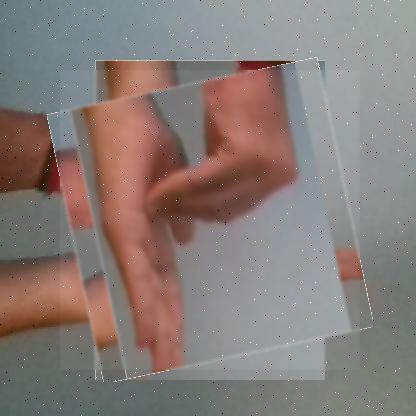Z: (60, 70, 361, 371)
